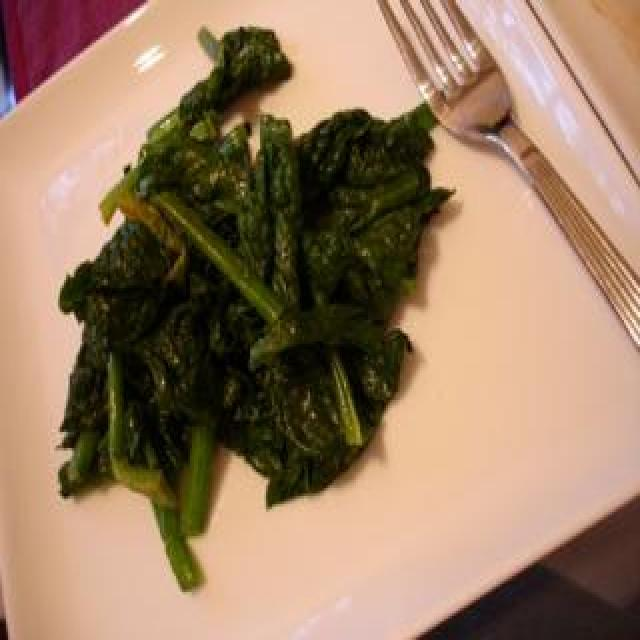蔬菜料理: (0, 0, 484, 640)
